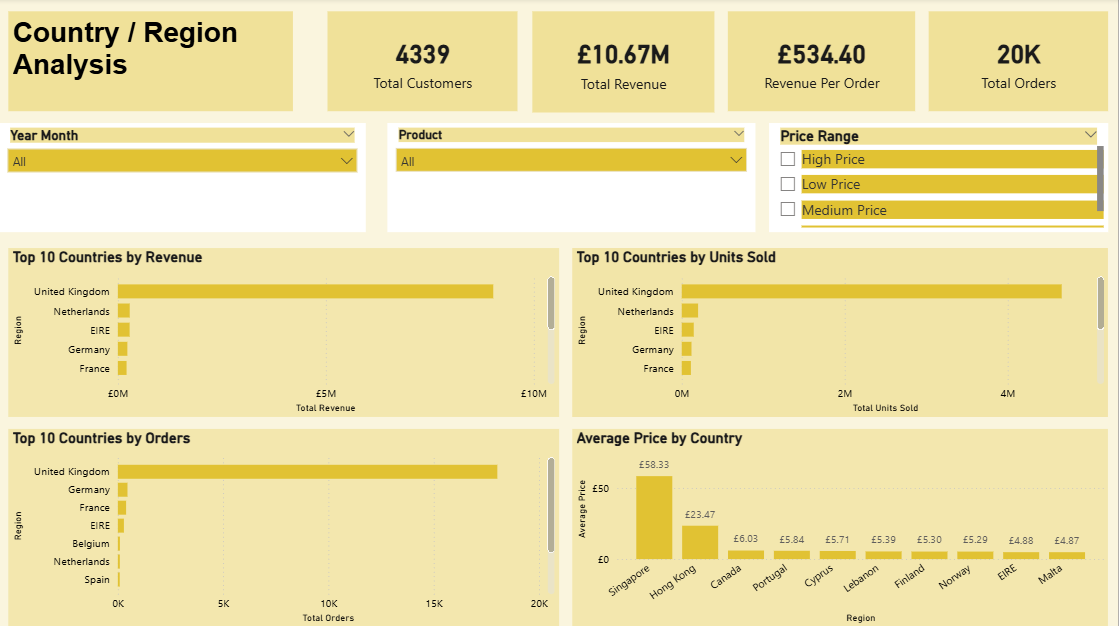

The dashboard page shown, as its layout file describes it:
{"tool":"powerbi","page":{"name":"Country / Region Analysis","canvas":[1280,720],"ordinal":3},"visuals":[{"type":"card","fields":{"Values":["Online Retail.Total Revenue"]},"box":[610,15.2,208.4,115.6],"z":0},{"type":"card","fields":{"Values":["Online Retail.Total Orders"]},"box":[1063.4,15.2,205.4,114.1],"z":1000},{"type":"card","fields":{"Values":["Online Retail.Total Customers"]},"box":[375.8,15.2,217.5,114.1],"z":2000},{"type":"card","fields":{"Values":["Online Retail.Revenue Per Order"]},"box":[833.7,15.2,214.5,114.1],"z":3000},{"type":"slicer","fields":{"Values":["Online Retail.Year Month"]},"box":[0,143,419.9,124.7],"z":4000},{"type":"slicer","fields":{"Values":["Online Retail.Price Range"]},"box":[880.8,143,387.9,124.7],"z":5000},{"type":"slicer","fields":{"Values":["Online Retail.Product"]},"box":[444.2,143,421.4,124.7],"z":6000},{"type":"clusteredBarChart","title":"Top 10 Countries by Revenue","fields":{"Category":["Online Retail.Region"],"Y":["Online Retail.Total Revenue"]},"box":[10.6,286,629.8,193.2],"z":7000},{"type":"clusteredBarChart","title":"Top 10 Countries by Units Sold","fields":{"Category":["Online Retail.Region"],"Y":["Online Retail.Total Units Sold"]},"box":[655.7,286,613.1,193.2],"z":8000},{"type":"clusteredBarChart","title":"Top 10 Countries by Orders","fields":{"Category":["Online Retail.Region"],"Y":["Online Retail.Total Orders"]},"box":[10.6,492.9,629.8,226.7],"z":9000},{"type":"clusteredColumnChart","title":"Average Price by Country","fields":{"Category":["Online Retail.Region"],"Y":["Online Retail.Average Price"]},"box":[655.7,492.9,613.1,226.7],"z":10000},{"type":"textbox","box":[10.6,15.2,325.6,114.1],"z":11000}]}

Visuals, with their boxes in screenshot pixels (x1, y1, x2, y2), scaled from the page's 1280x720 canvas onto the 1119x626 screenshot:
card - Online Retail.Total Revenue: rect(533, 13, 715, 114)
card - Online Retail.Total Orders: rect(930, 13, 1109, 112)
card - Online Retail.Total Customers: rect(329, 13, 519, 112)
card - Online Retail.Revenue Per Order: rect(729, 13, 916, 112)
slicer - Online Retail.Year Month: rect(0, 124, 367, 233)
slicer - Online Retail.Price Range: rect(770, 124, 1109, 233)
slicer - Online Retail.Product: rect(388, 124, 757, 233)
"Top 10 Countries by Revenue" clusteredBarChart: rect(9, 249, 560, 417)
"Top 10 Countries by Units Sold" clusteredBarChart: rect(573, 249, 1109, 417)
"Top 10 Countries by Orders" clusteredBarChart: rect(9, 429, 560, 625)
"Average Price by Country" clusteredColumnChart: rect(573, 429, 1109, 625)
textbox: rect(9, 13, 294, 112)
